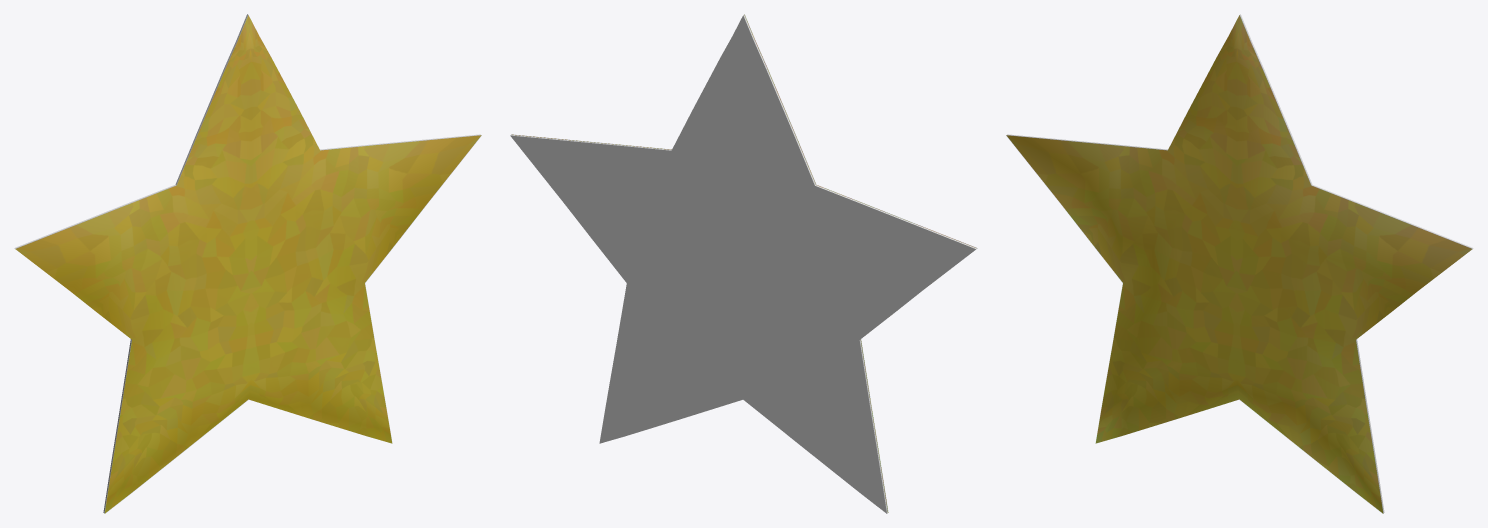
The model's file is star_holo.glb.
3 views of the same model, side by side, from view 1: azimuth 30°, elevation 25°; view 2: azimuth 150°, elevation 25°; view 3: azimuth 330°, elevation 25° (orthographic).
Parts seen in each view (by area): view 1: Plane.001, Plane.002, Plane; view 2: Plane, Plane.001; view 3: Plane.001, Plane.002, Plane.
Boxes of the visible parts, x1,y1,x2,y2 form: Plane.001: [15, 15, 481, 513]; Plane.002: [16, 15, 481, 513]; Plane: [14, 14, 480, 513]; Plane: [510, 14, 976, 513]; Plane.001: [512, 14, 976, 512]; Plane.001: [1006, 15, 1472, 513]; Plane.002: [1006, 15, 1471, 513]; Plane: [1007, 14, 1473, 513].
Size of the model in its own units: 1.95 by 1.85 by 0.0288.
2 materials, 1 textured.
